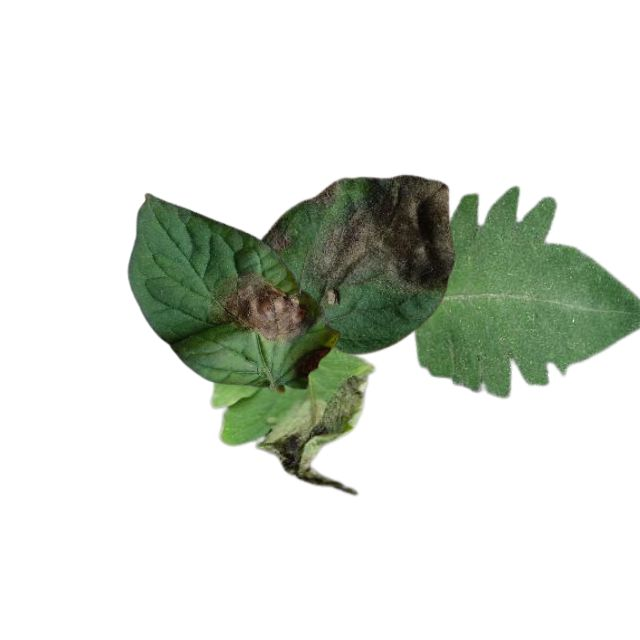Late_blight: (302, 173, 455, 297), (255, 373, 367, 494), (217, 278, 310, 343), (305, 181, 341, 207), (265, 223, 295, 254), (321, 287, 343, 307)
